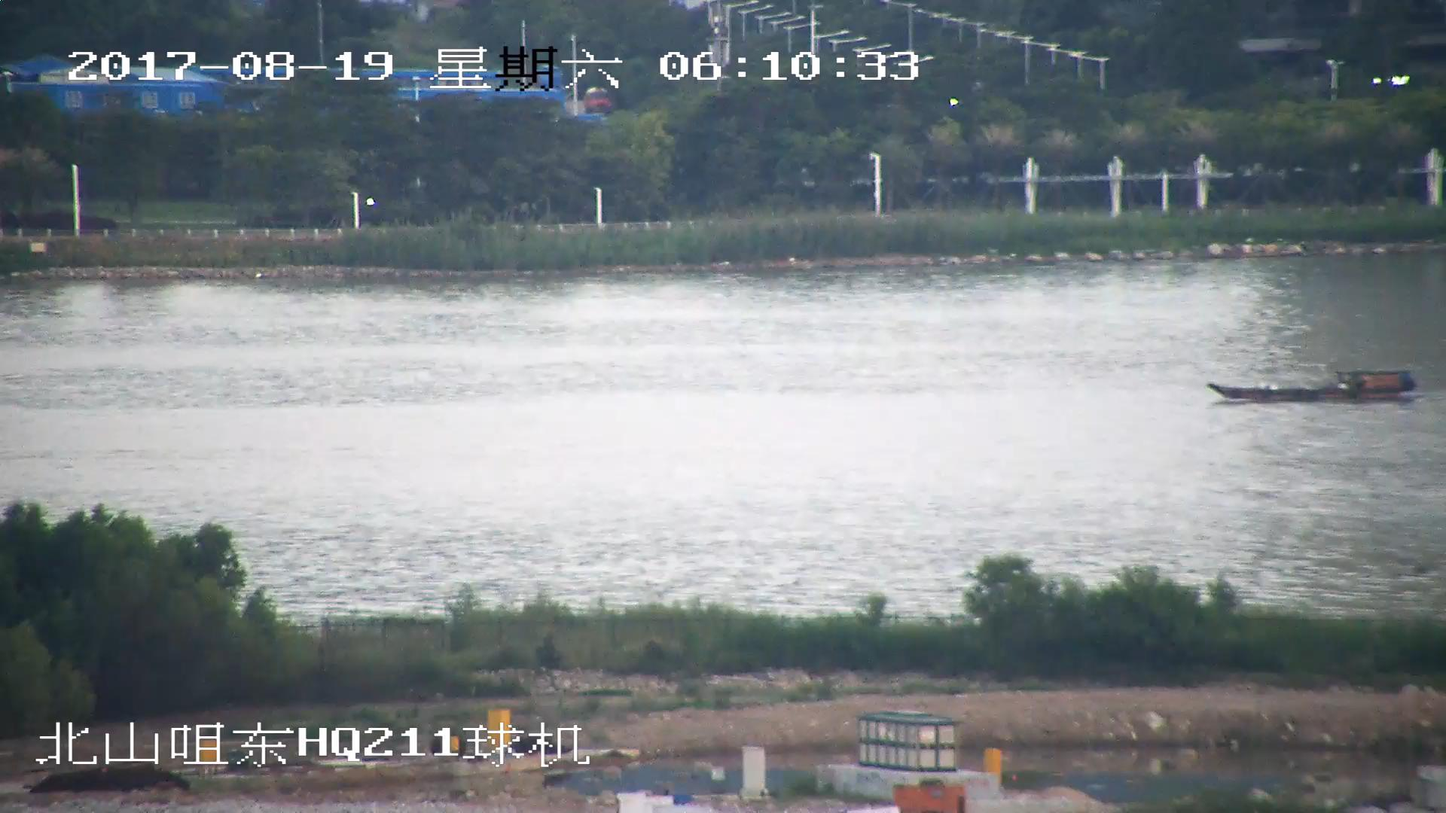fishing boat: (1207, 367, 1415, 404)
